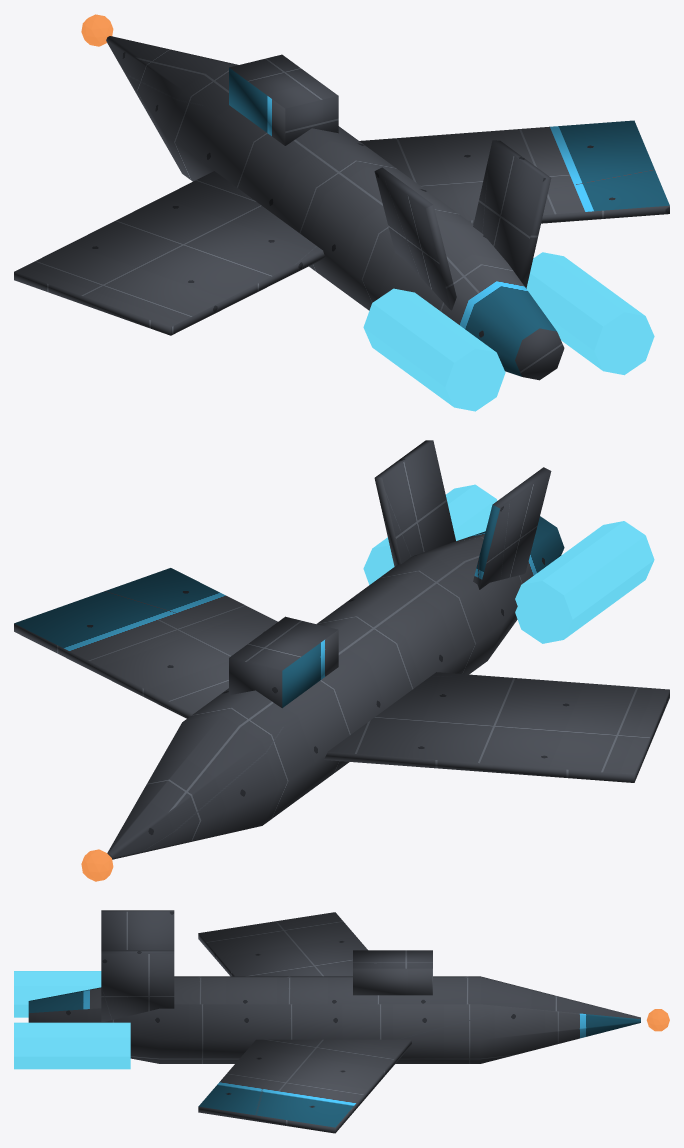
File: shp_001_basic_interceptor.glb
The picture shows the model from 3 angles, top to bottom: view 1: azimuth 30°, elevation 25°; view 2: azimuth 150°, elevation 25°; view 3: azimuth 270°, elevation 25°; orthographic projection. The views are drawn at different scales.
Parts seen in each view (by area): view 1: SHP001_Body, SHP001_Engine_L, SHP001_Engine_R, SHP001_Weapon_T; view 2: SHP001_Body, SHP001_Engine_L, SHP001_Engine_R, SHP001_Weapon_T; view 3: SHP001_Body, SHP001_Engine_R, SHP001_Engine_L, SHP001_Weapon_T.
Part boxes in pixels (x1=…): SHP001_Body: x1=14, y1=36, x2=669, y2=380; SHP001_Engine_L: x1=363, y1=288, x2=505, y2=411; SHP001_Engine_R: x1=526, y1=252, x2=654, y2=375; SHP001_Weapon_T: x1=81, y1=14, x2=113, y2=46; SHP001_Body: x1=14, y1=440, x2=669, y2=859; SHP001_Engine_L: x1=515, y1=521, x2=654, y2=643; SHP001_Engine_R: x1=363, y1=484, x2=497, y2=584; SHP001_Weapon_T: x1=81, y1=849, x2=113, y2=881; SHP001_Body: x1=28, y1=910, x2=640, y2=1133; SHP001_Engine_R: x1=14, y1=1022, x2=130, y2=1069; SHP001_Engine_L: x1=14, y1=971, x2=101, y2=1017; SHP001_Weapon_T: x1=646, y1=1009, x2=669, y2=1031.
Bounding box in the file's own units: 3.5 × 0.9965 × 4.5.
3 materials, 1 textured.
